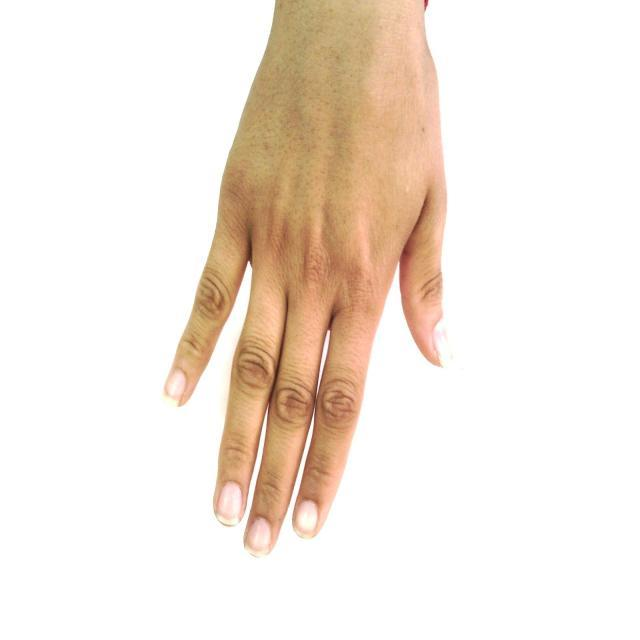Fingernail: (218, 482, 242, 525), (248, 518, 271, 554), (295, 500, 317, 537), (435, 321, 451, 364), (166, 370, 185, 399)
